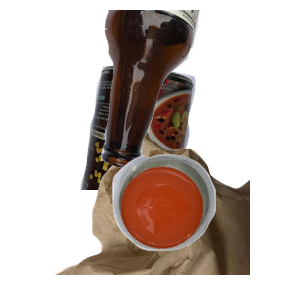glass: (99, 10, 300, 170)
metal: (78, 63, 266, 243)
plastic: (110, 152, 300, 300)
trash: (52, 120, 292, 300)
